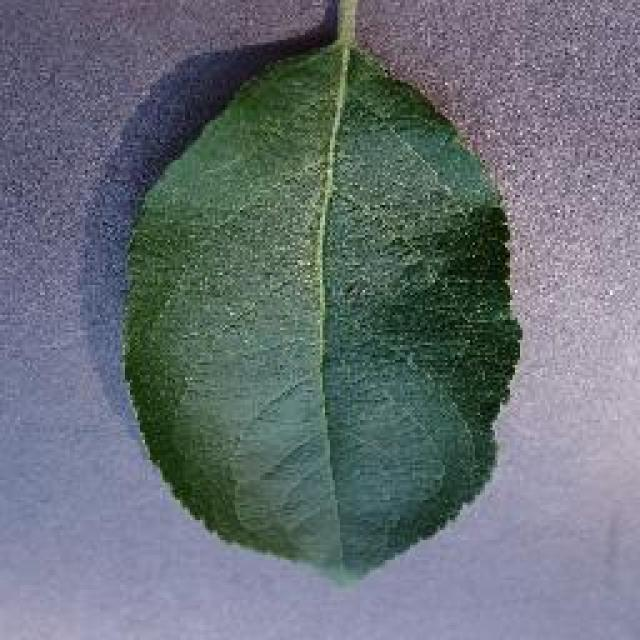apple healthy: (115, 35, 523, 585)
